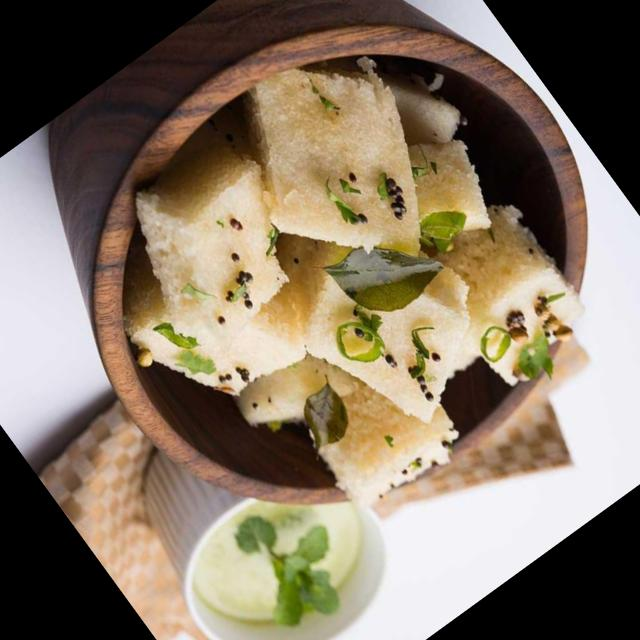dhokla: (74, 16, 637, 590)
